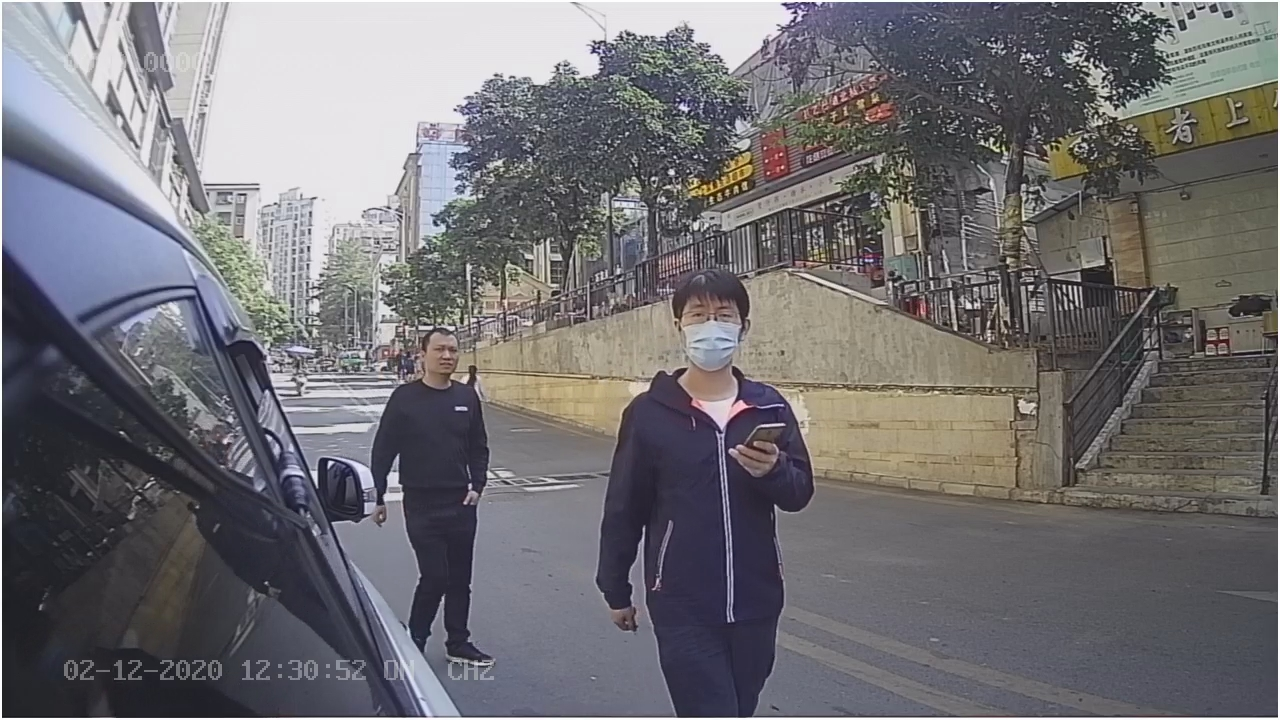person: (590, 268, 817, 637), (372, 325, 493, 472)
